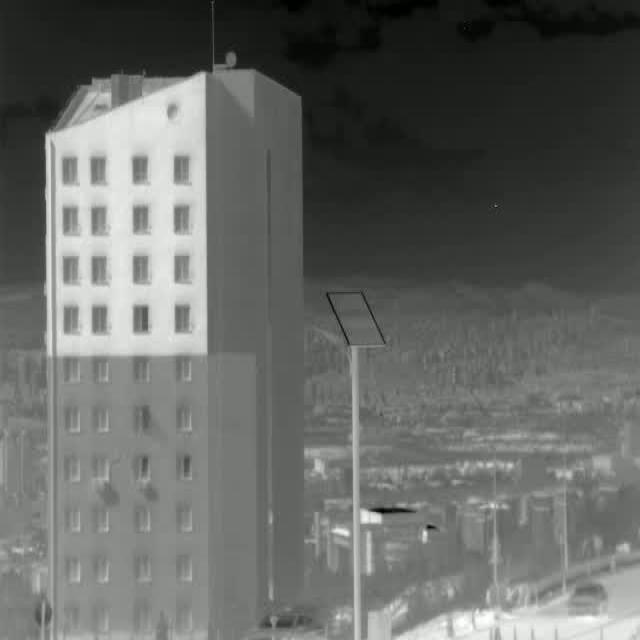Car: (243, 610, 326, 640), (566, 580, 611, 620)
